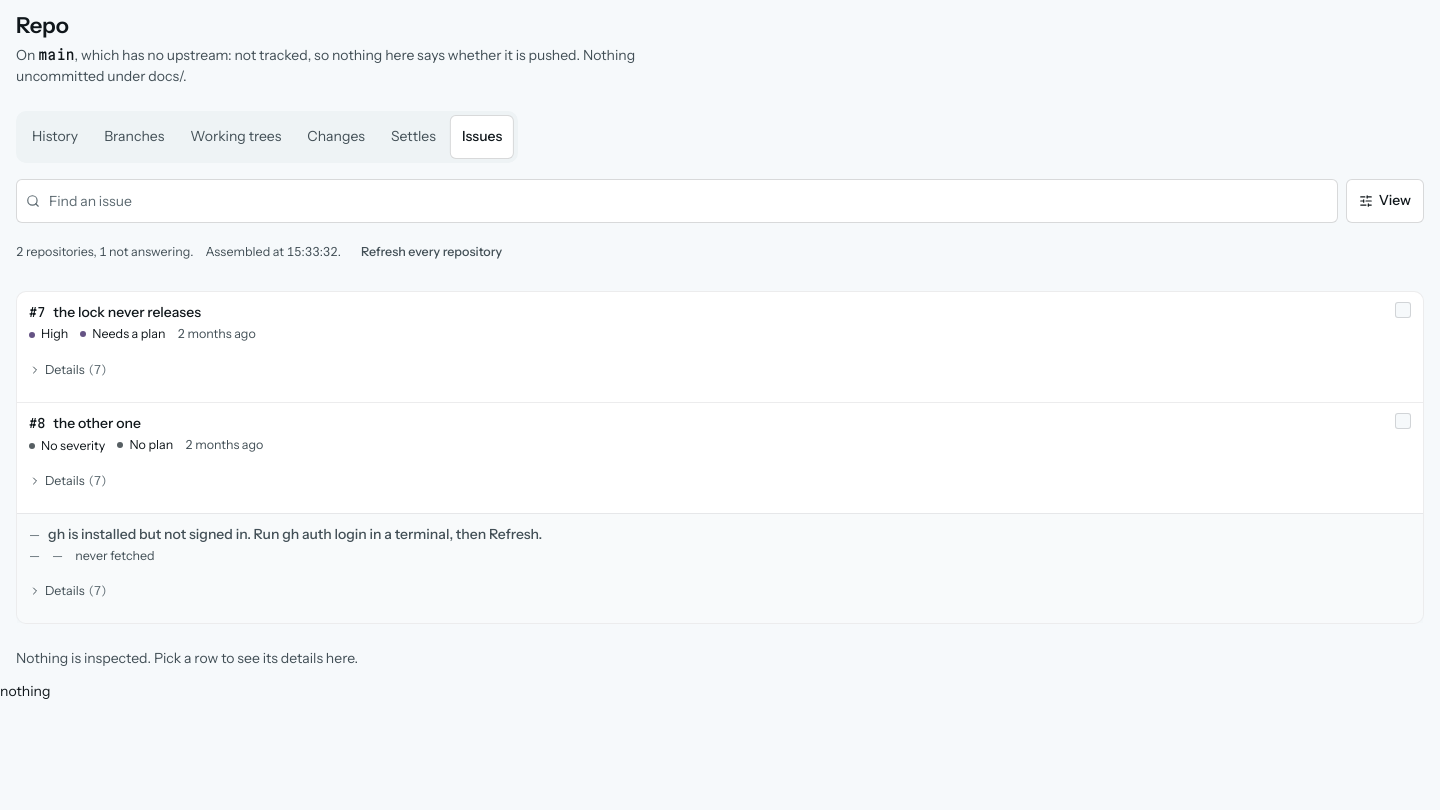
the phone rendering › keeps the search on the bar and puts the filters and the verbs in one View sheet
Check: the text "the lock never releases" is shown, box [53,302,201,320]
Check: the search field labelled "Find an issue" is shown, box [16,178,1338,222]
Click the button "View" at (1385, 200), box [1346,178,1424,222]
(page scrolled)
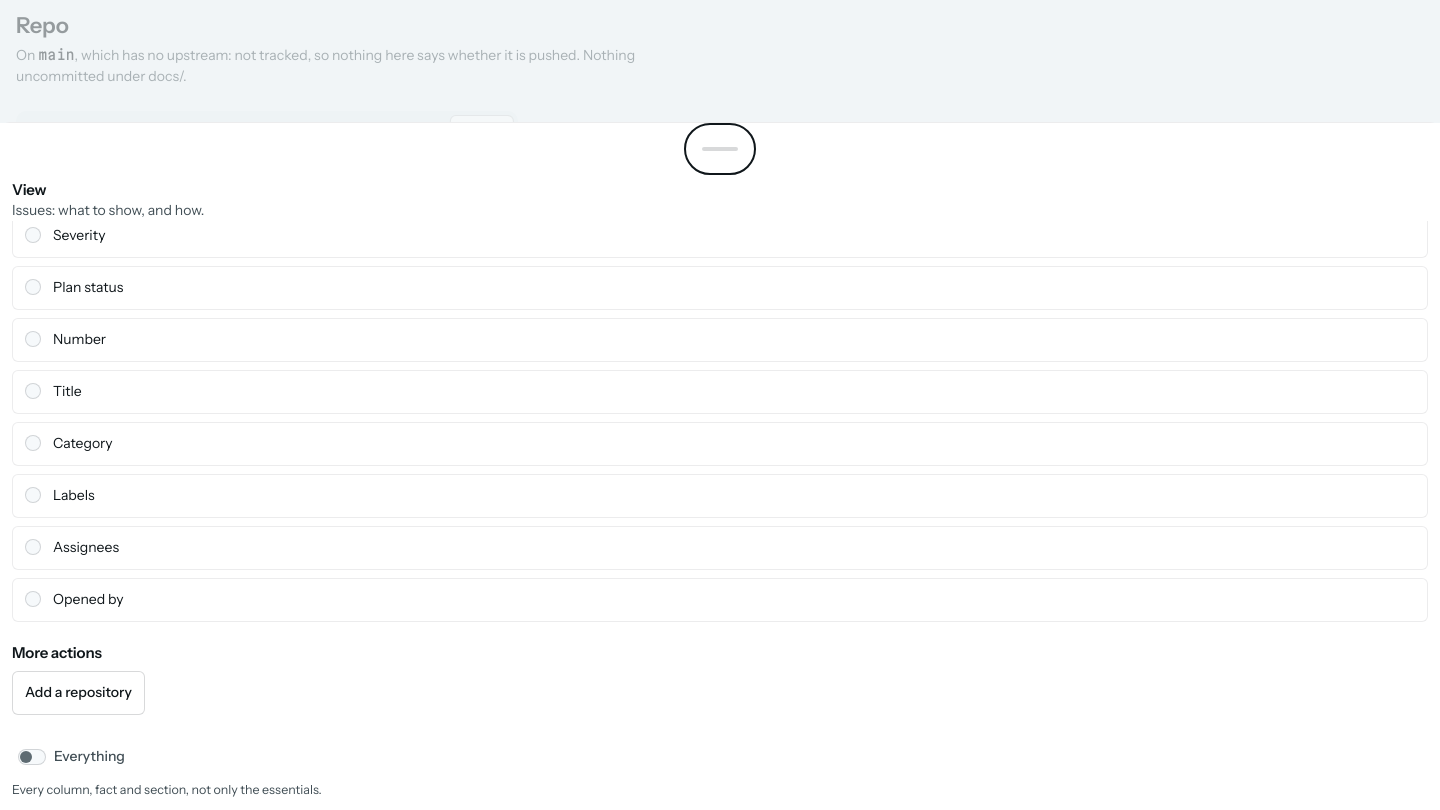
Check: the element named "Order the issues" is shown, box [12,220,1428,622]
Check: the button "Add a repository" is shown, box [12,671,145,715]
Check: the switch labelled "Everything" is shown, box [12,735,131,779]
